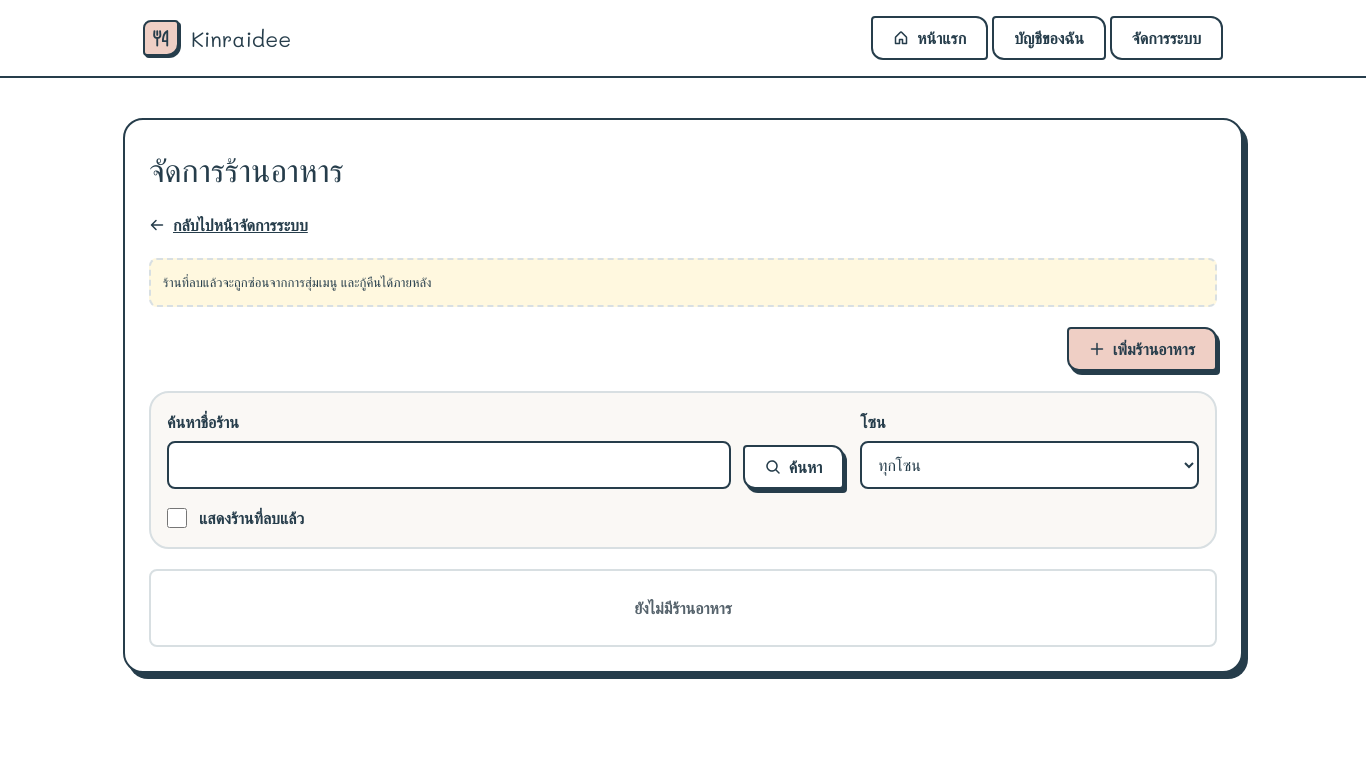
Test: RestaurantsPage list › shows deleted restaurants with a text status and restore instead of edit
The image size is (1366, 768).
Check: the text "ยังไม่มีร้านอาหาร" is shown, box top-left (149, 569), bottom-right (1217, 647)
Click the checkbox labelled "แสดงร้านที่ลบแล้ว".
click(177, 518)  # box top-left (167, 508), bottom-right (187, 528)
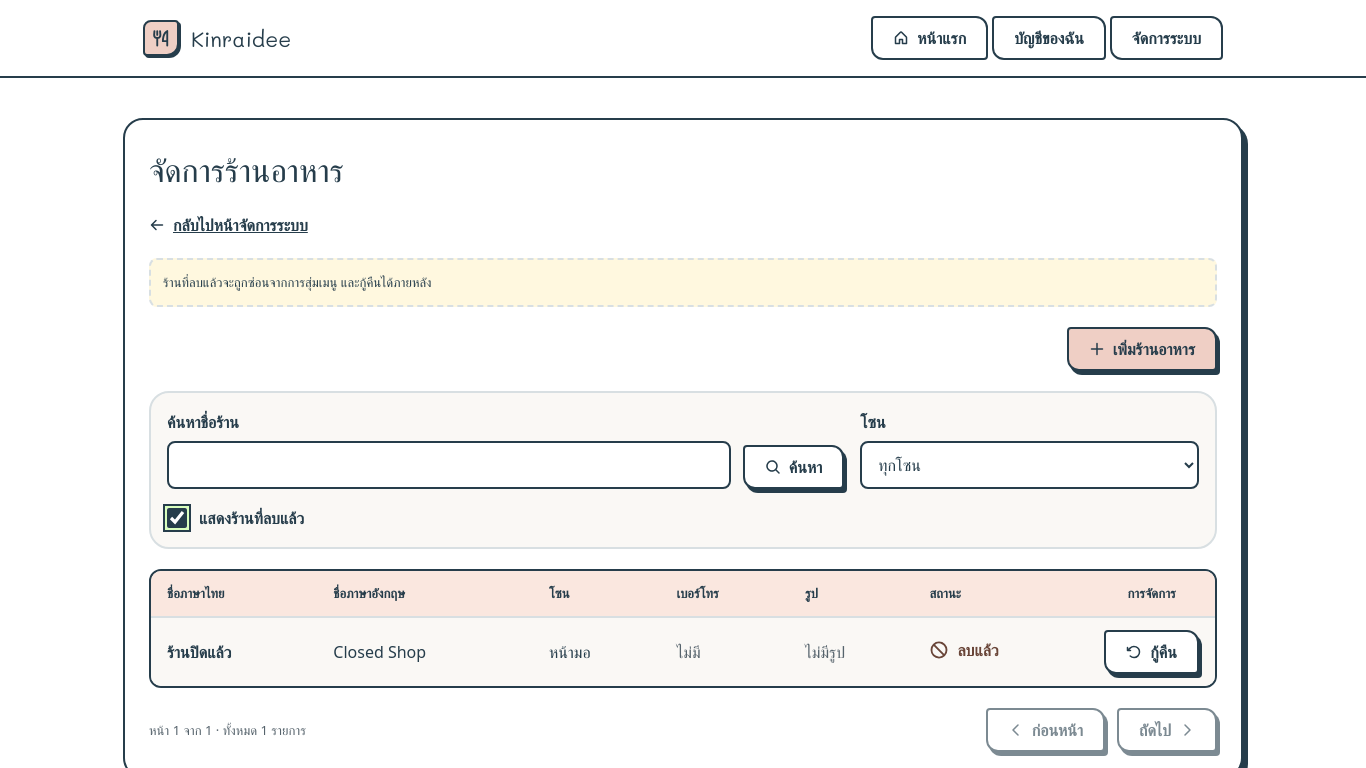
Check: the text "ลบแล้ว" is shown, box top-left (929, 637), bottom-right (999, 663)
Check: the button named "กู้คืนร้าน ร้านปิดแล้ว" is shown, box top-left (1104, 630), bottom-right (1199, 674)
